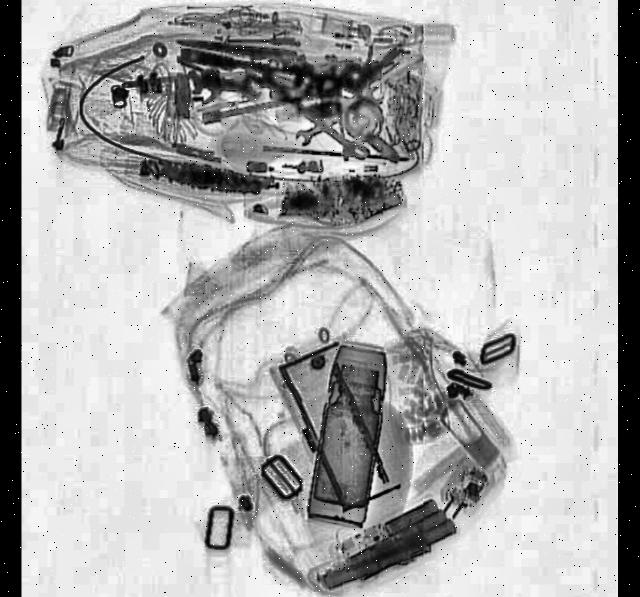Wrench: (246, 56, 372, 167), (292, 90, 357, 146)
